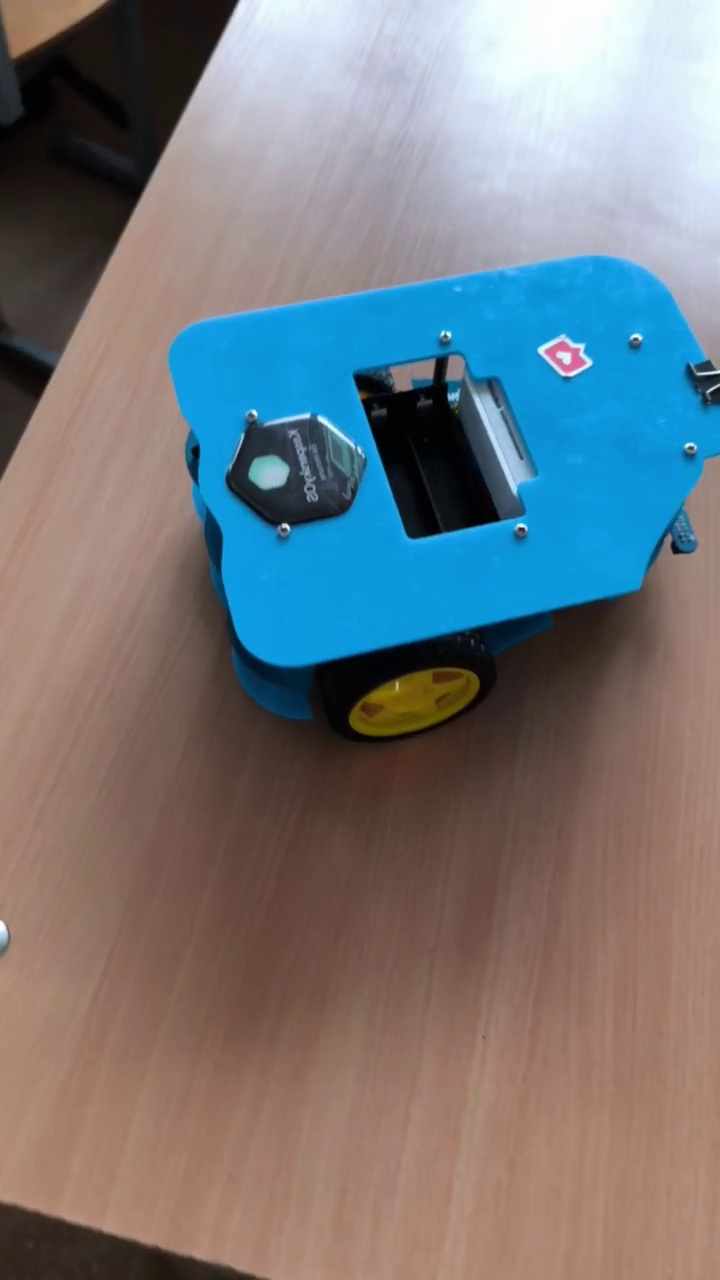robot: (168, 252, 720, 743)
